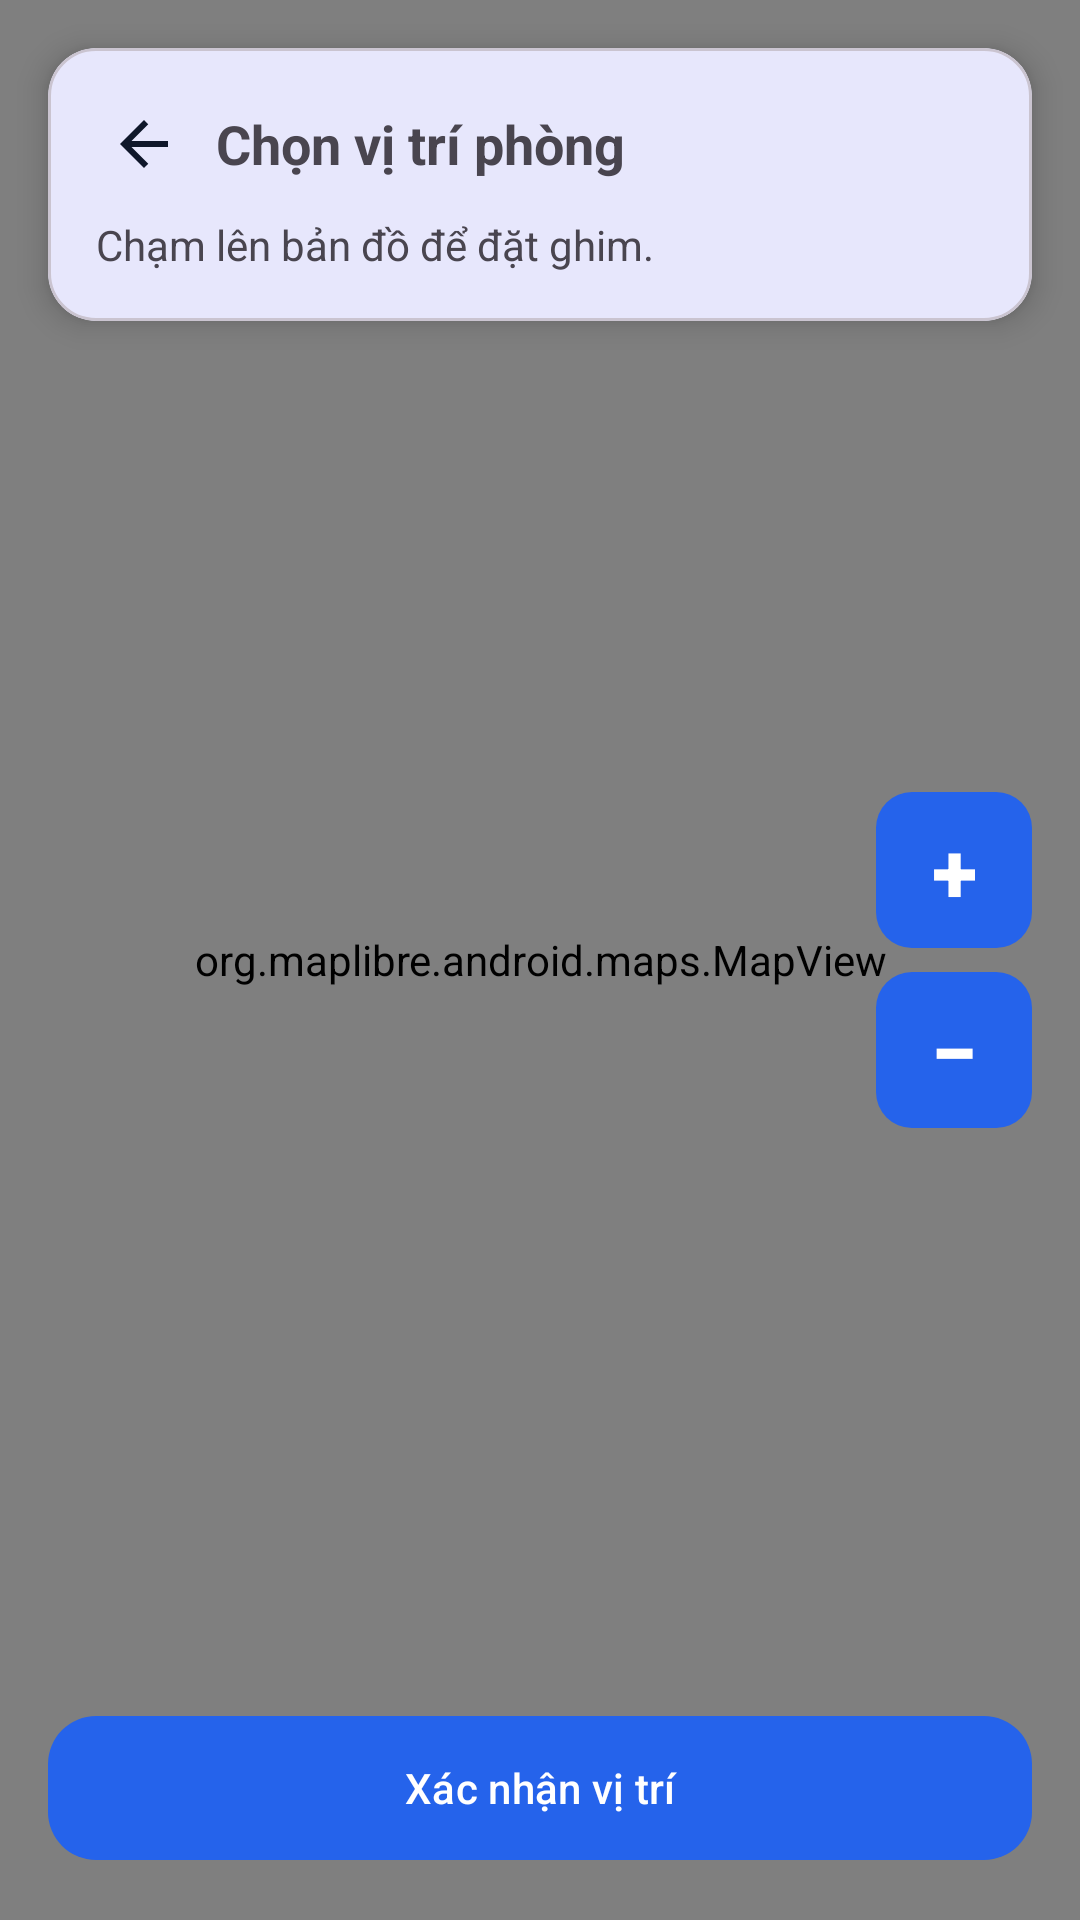

Icons on this 1080x1920 Android screen, each with its box as BBox(x1, y1, x2, y2):
Quay lại: BBox(120, 120, 168, 168)
